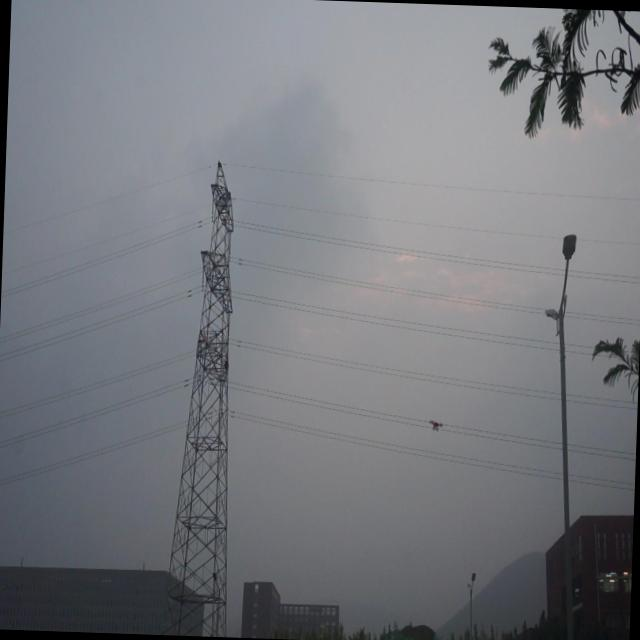drone: (426, 416, 444, 437)
